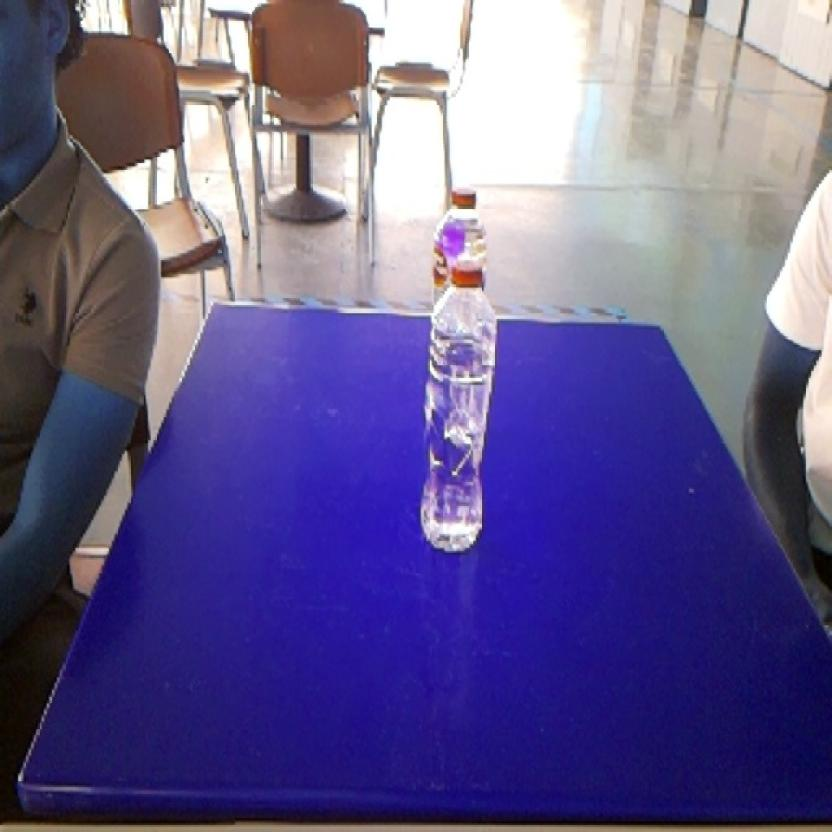good: (421, 172, 501, 256)
no_label: (414, 248, 504, 559)
